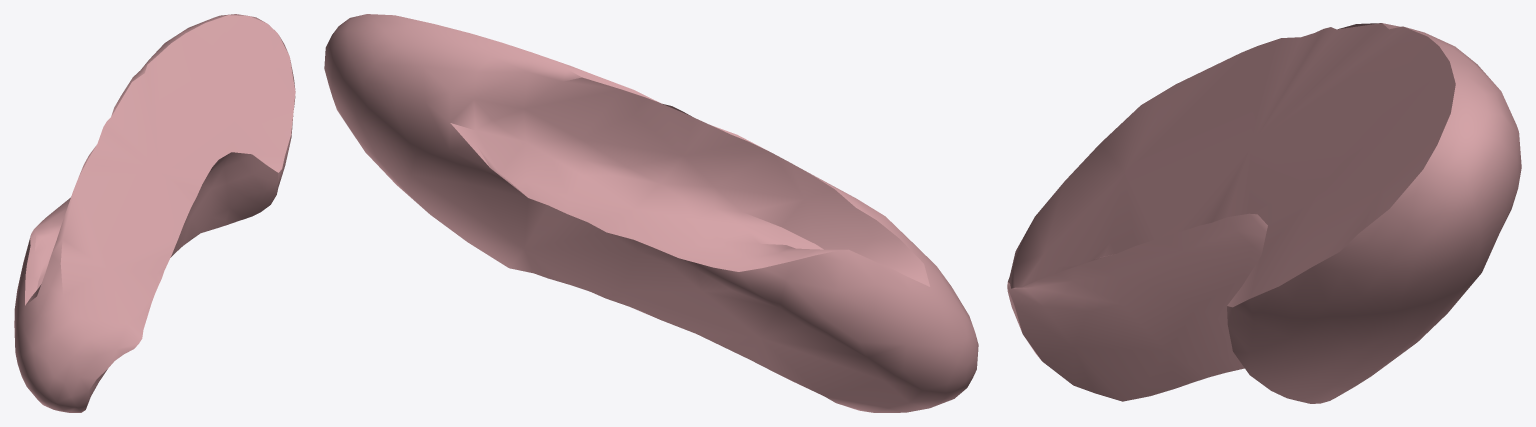
Rendered from fma321314_mm2141m.glb.
3 views of the same model, side by side, from view 1: azimuth 30°, elevation 25°; view 2: azimuth 150°, elevation 25°; view 3: azimuth 270°, elevation 25° (orthographic). The views are drawn at different scales.
Visible parts, largest first — view 1: FMA321314_MM2141M; view 2: FMA321314_MM2141M; view 3: FMA321314_MM2141M.
Boxes of the visible parts, <box> form: FMA321314_MM2141M: <box>14,14,295,412</box>; FMA321314_MM2141M: <box>324,14,978,412</box>; FMA321314_MM2141M: <box>1007,23,1521,403</box>.
Bounding box in the file's own units: 0.0205 × 0.0154 × 0.0134.
